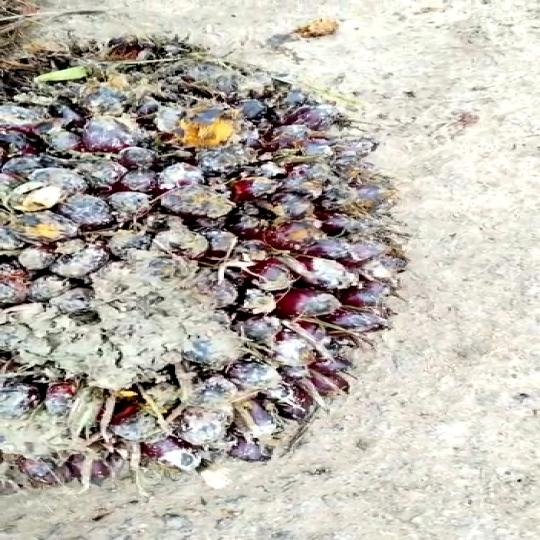kurang masak: (0, 32, 408, 508)
